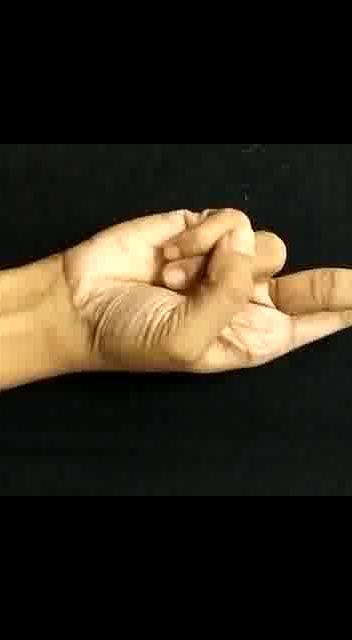kartarimukh: (31, 192, 352, 425)
